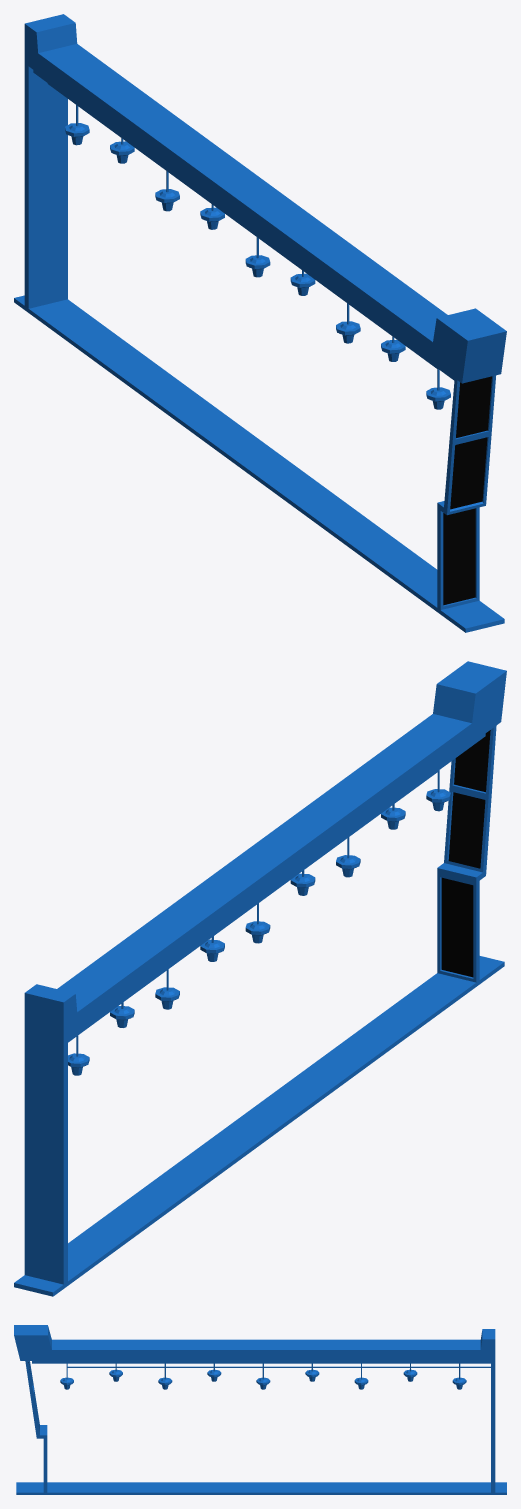
File: SM_middle.fbx
3 views of the same model, one above another, from view 1: azimuth 30°, elevation 25°; view 2: azimuth 150°, elevation 25°; view 3: azimuth 270°, elevation 25° (orthographic). The views are drawn at different scales.
Visible parts, largest first — view 1: Cube_9; view 2: Cube_9; view 3: Cube_9.
Boxes of the visible parts, x1,y1,x2,y2 form: Cube_9: (14,14,506,632); Cube_9: (14,661,506,1296); Cube_9: (14,1325,506,1494).
Bounding box in the file's own units: 100 × 718 × 2010.
